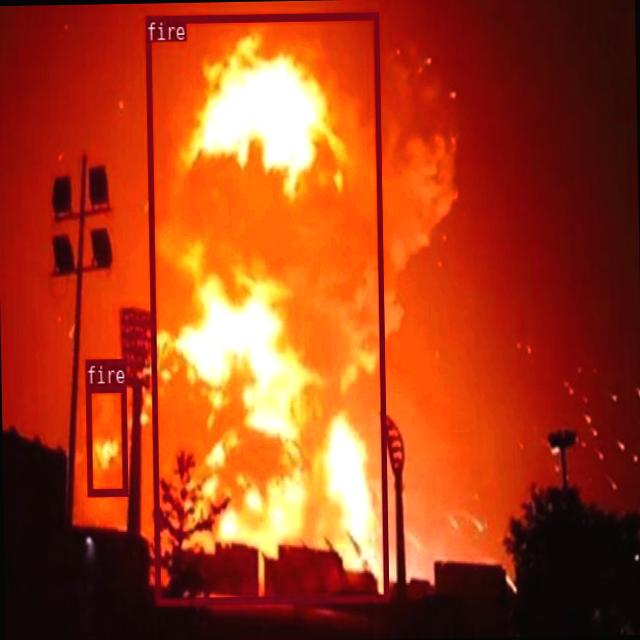fire: (145, 11, 387, 603), (85, 383, 126, 494)
